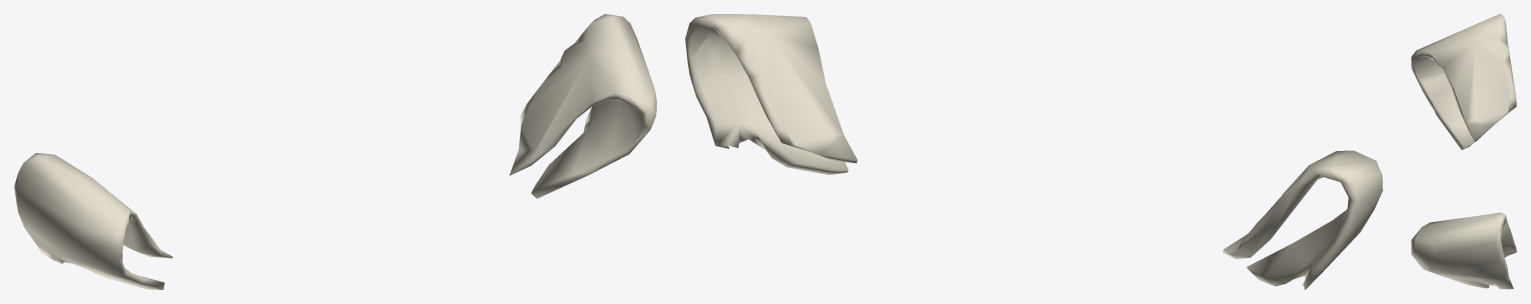
Rendered from tendons-neck-balanced.glb.
3 renders of one model, left to right at view 1: azimuth 30°, elevation 25°; view 2: azimuth 150°, elevation 25°; view 3: azimuth 270°, elevation 25°, orthographic. The views are drawn at different scales.
Visible parts, largest first — view 1: za.intermediate-tendon-of-digastric-muscle-l, za.intermediate-tendon-of-digastric-muscle-r; view 2: za.intermediate-tendon-of-digastric-muscle-l, za.intermediate-tendon-of-digastric-muscle-r; view 3: za.intermediate-tendon-of-digastric-muscle-r, za.intermediate-tendon-of-digastric-muscle-l.
Part boxes in pixels (left/top/right/bottom): za.intermediate-tendon-of-digastric-muscle-l: left=509, top=14, right=656, bottom=198; za.intermediate-tendon-of-digastric-muscle-r: left=14, top=153, right=172, bottom=289; za.intermediate-tendon-of-digastric-muscle-l: left=685, top=14, right=857, bottom=174; za.intermediate-tendon-of-digastric-muscle-r: left=1222, top=150, right=1382, bottom=289; za.intermediate-tendon-of-digastric-muscle-r: left=1411, top=14, right=1516, bottom=150; za.intermediate-tendon-of-digastric-muscle-l: left=1411, top=212, right=1516, bottom=289.
Bounding box in the file's own units: 0.0346 × 0.00749 × 0.00712.
